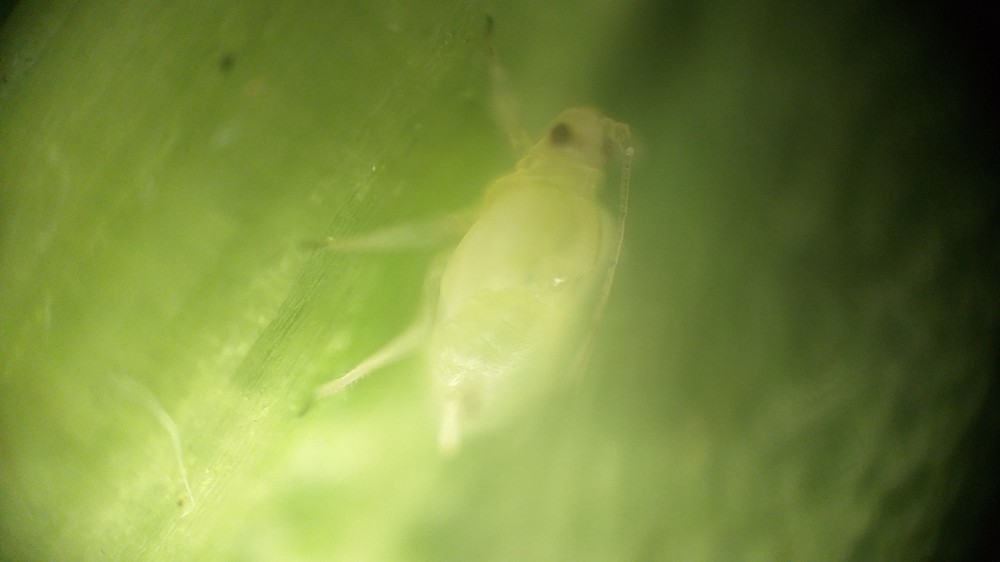Pulgon: (285, 20, 704, 523)
